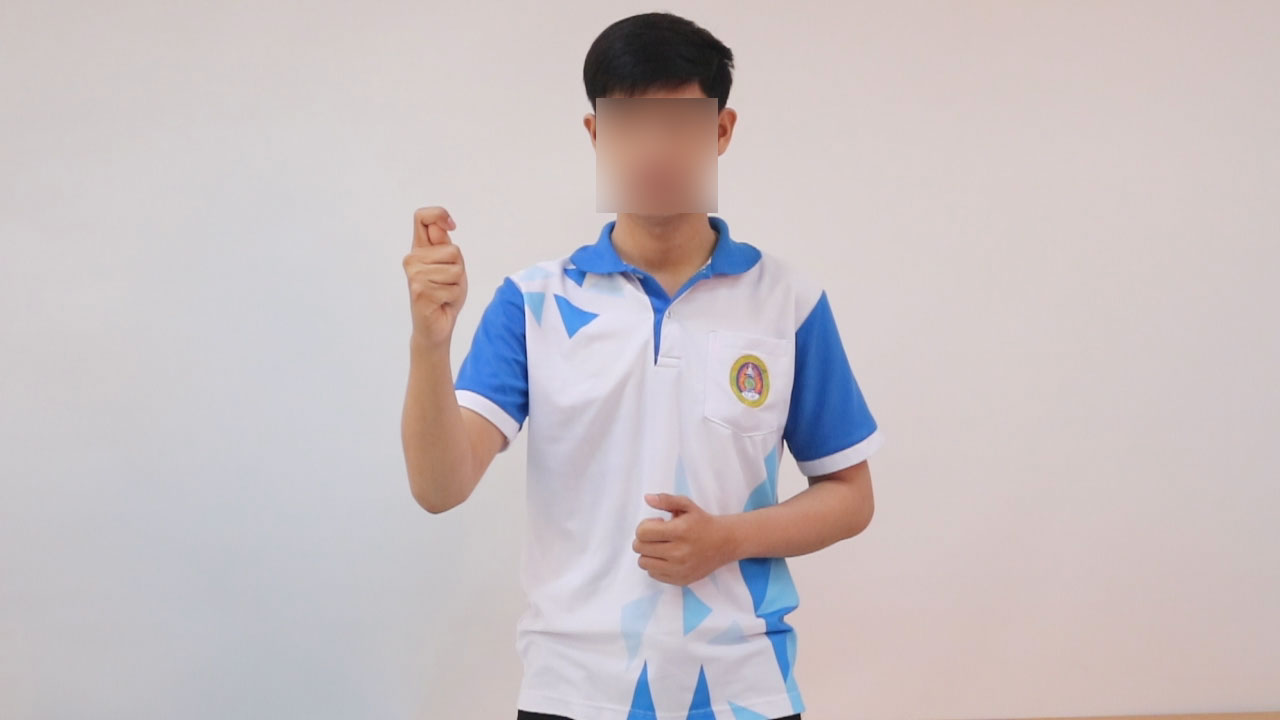or: (391, 200, 477, 358)
